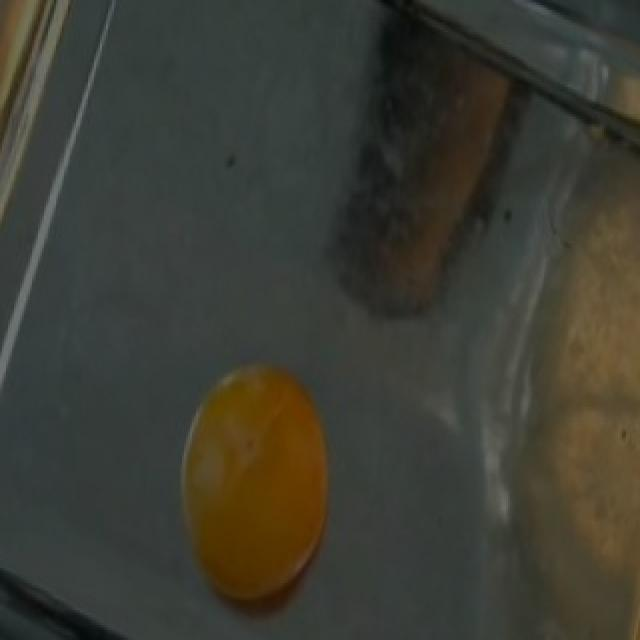Fruit: (164, 344, 346, 618)
